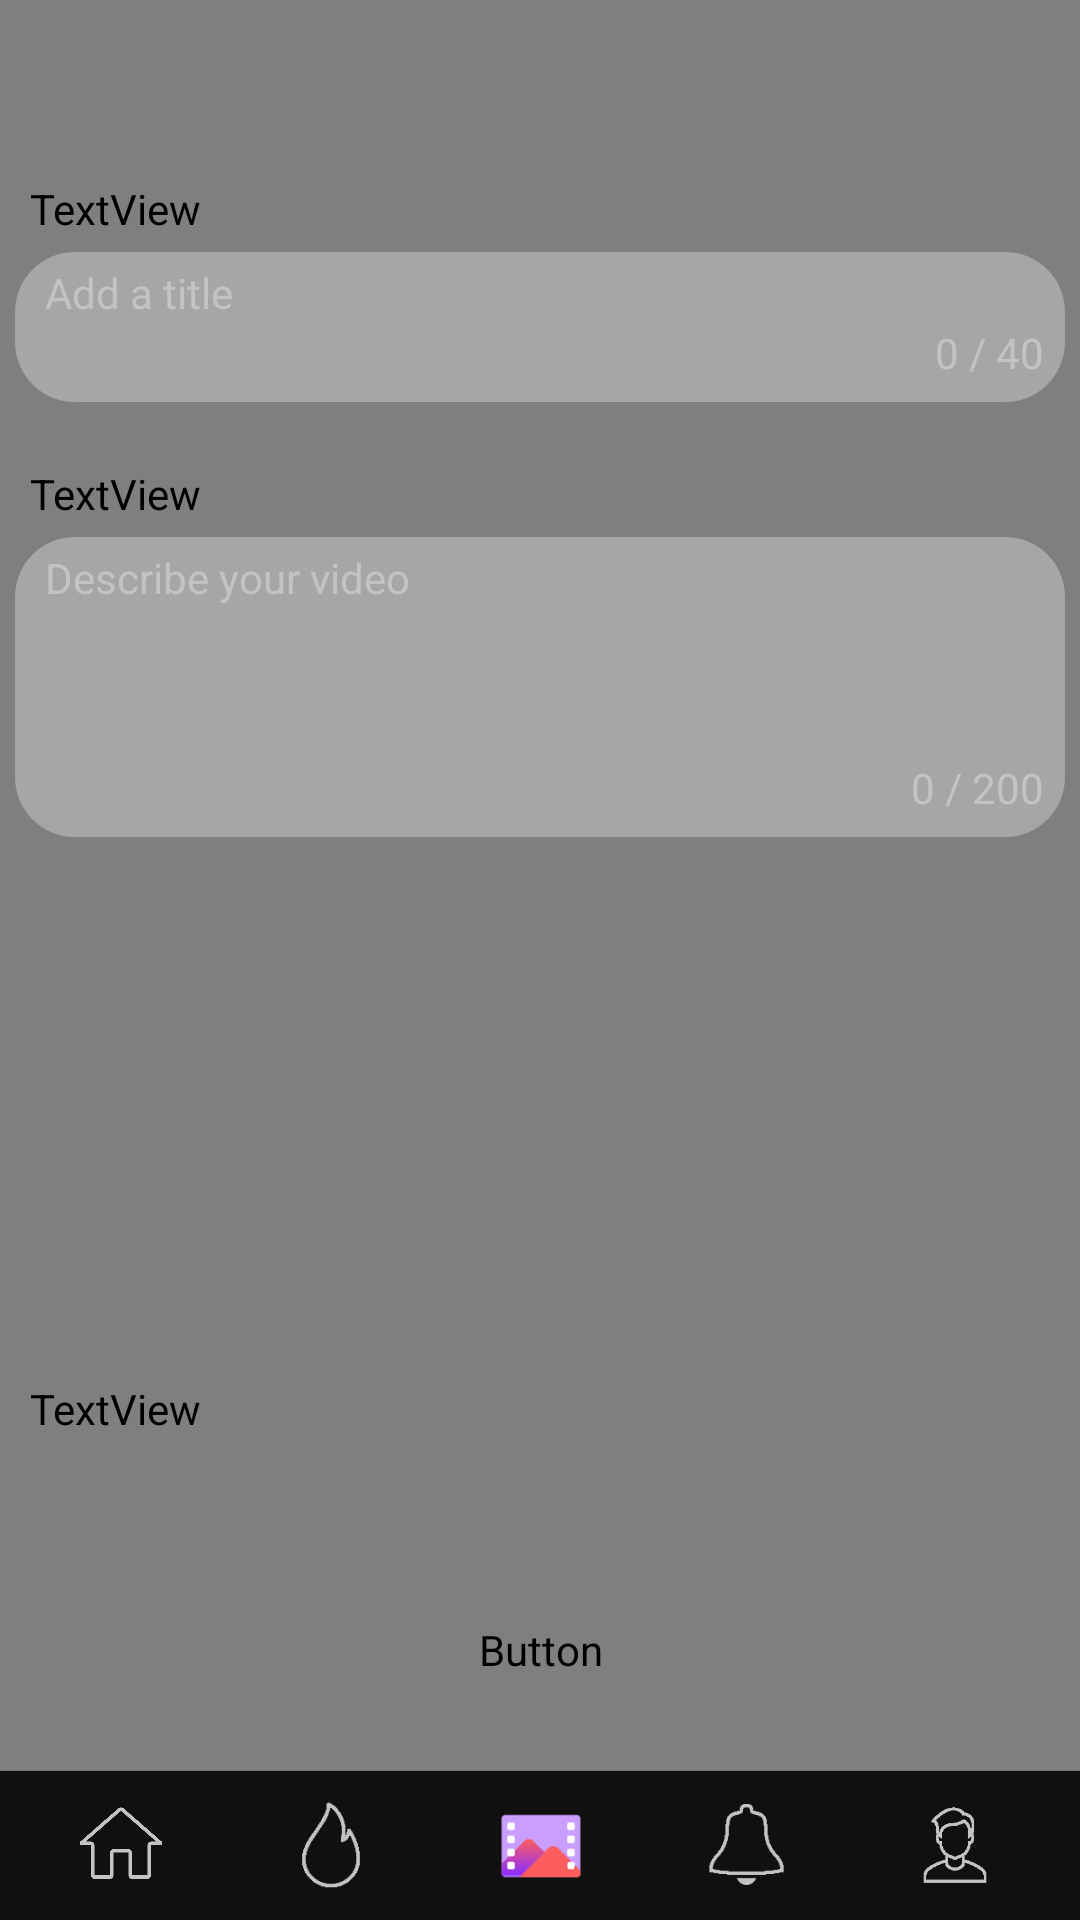

Where to tap for icons on this 1080w x 1920h app screen, as point (x, y):
fire: point (331, 1845)
home: point (121, 1843)
notifications: point (746, 1844)
profile: point (955, 1845)
video gallery: point (541, 1846)
